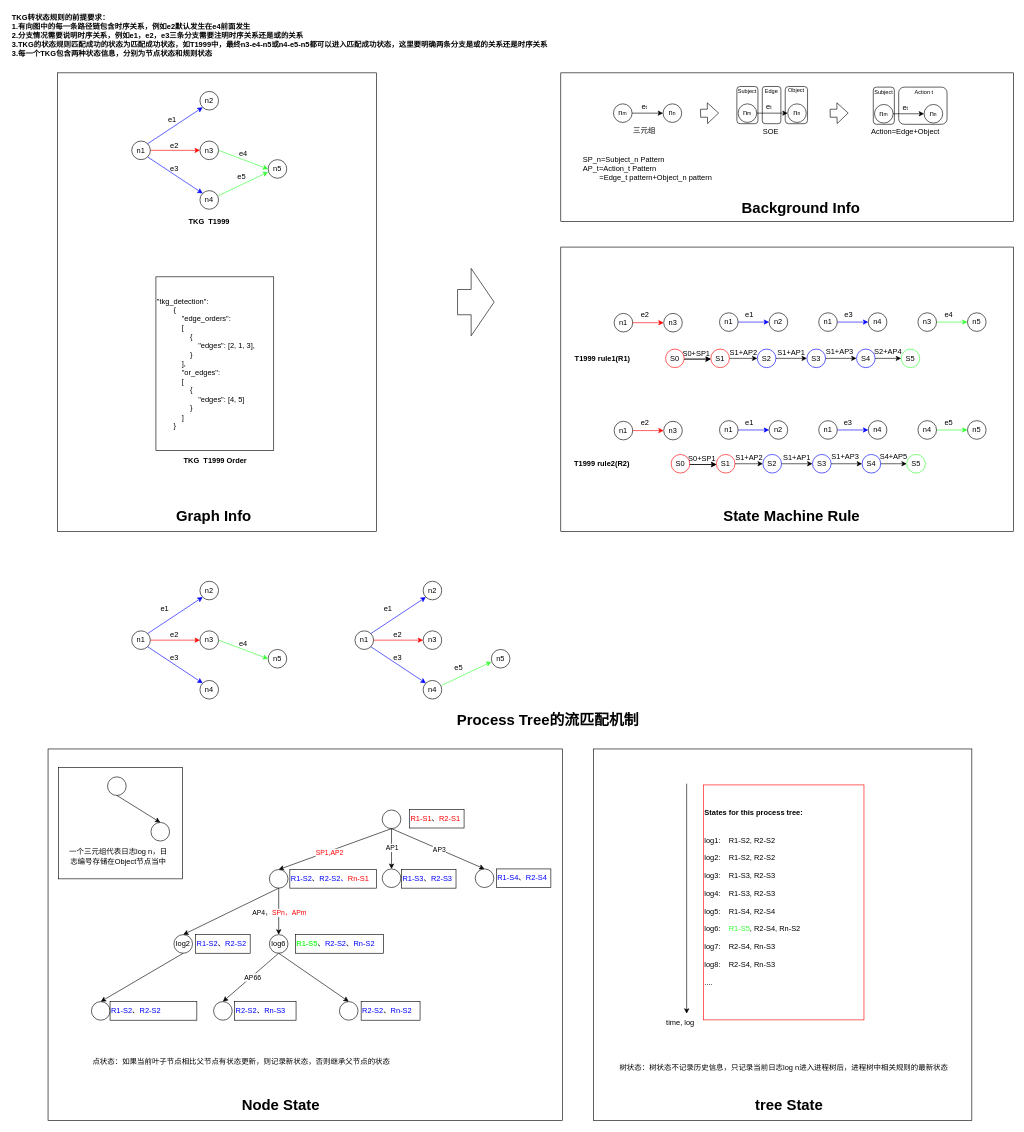
The diagram is 1024 pixels wide and 1132 high, and some of its shapes have lost their labels. Each missing label, with the box of its shape:
log n: (150, 822, 170, 841)
log1: (269, 869, 288, 888)
log3: (382, 868, 401, 888)
log4: (91, 1001, 110, 1020)
log5: (475, 868, 494, 888)
log7: (213, 1001, 232, 1020)
log8: (339, 1001, 358, 1020)
